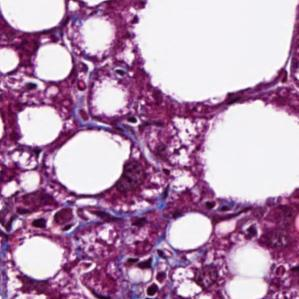inflammation: (26, 202, 79, 236), (199, 199, 254, 218), (141, 268, 173, 298)
